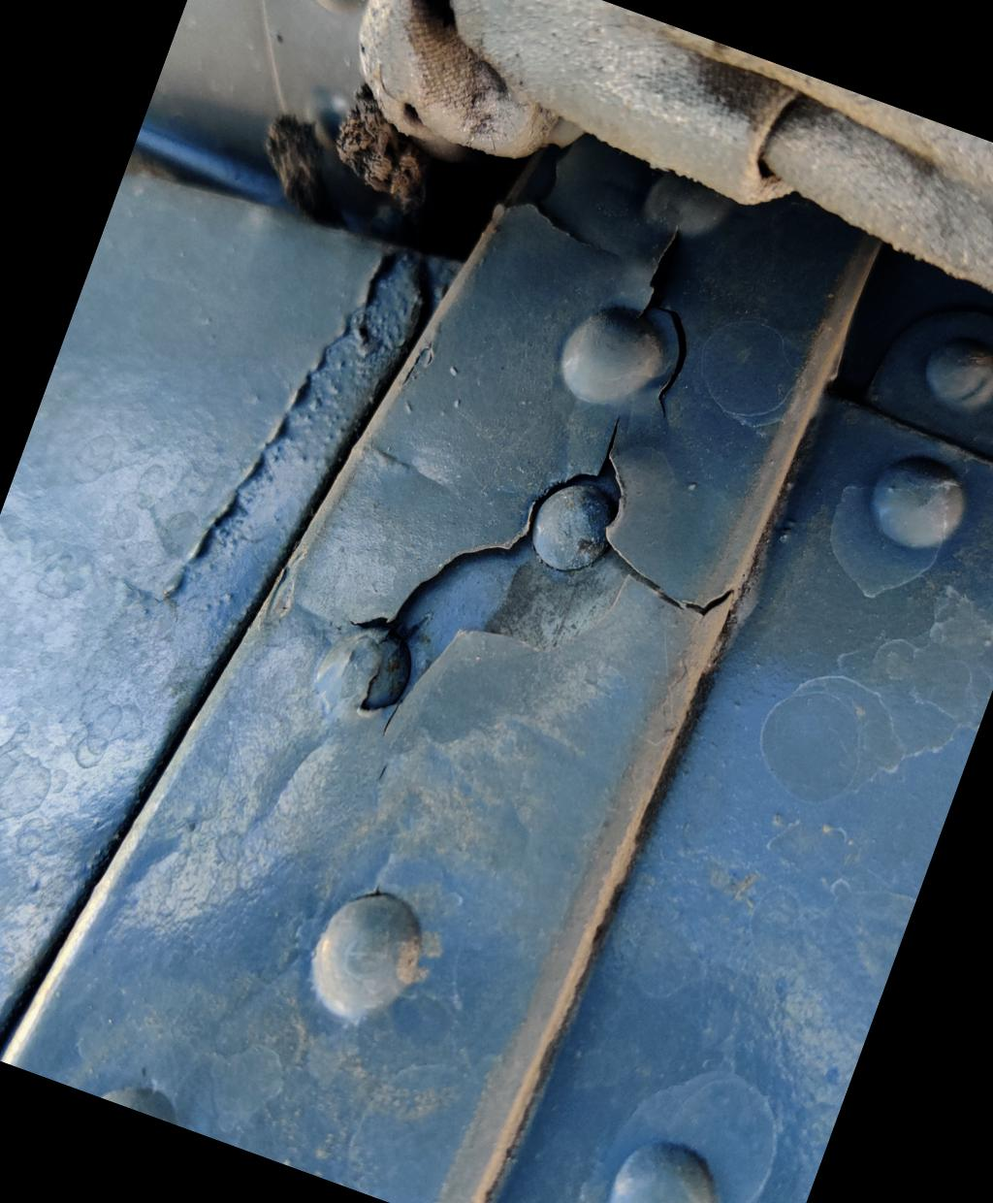crack: (301, 137, 878, 858), (461, 90, 671, 304)
